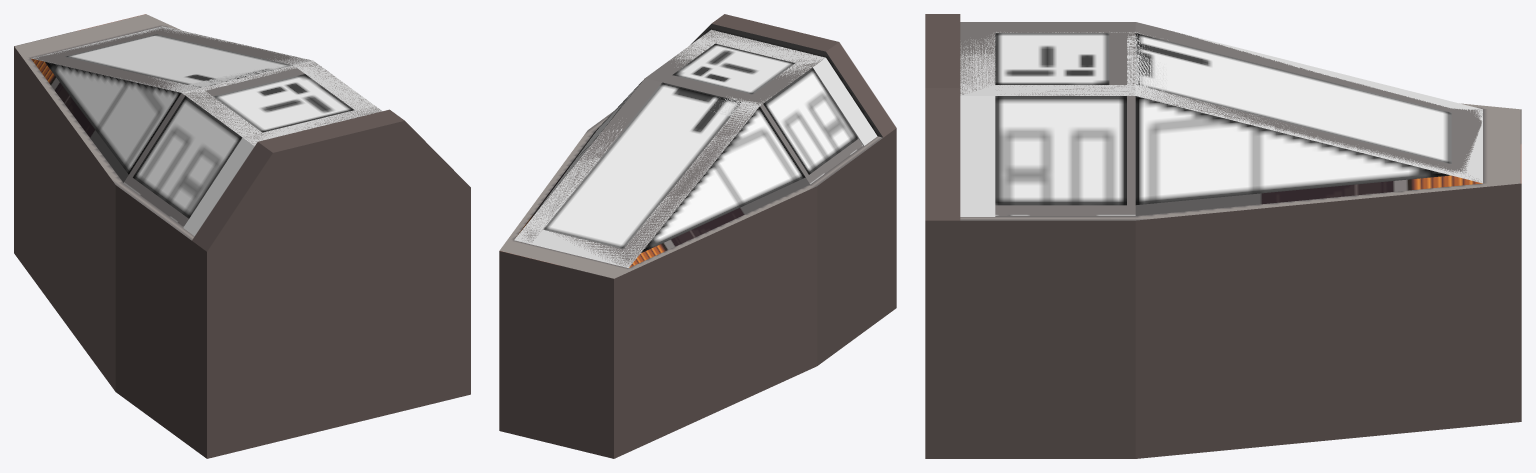
Rendered from cockpit.dae.
The picture shows the model from 3 angles, left to right: view 1: azimuth 30°, elevation 25°; view 2: azimuth 150°, elevation 25°; view 3: azimuth 270°, elevation 25°; orthographic projection. The views are drawn at different scales.
Visible parts, largest first — view 1: cockPit, windScreen.002, windScreen-noimp, windScreen.001-noimp; view 2: cockPit, windScreen.002, windScreen-noimp, windScreen.001-noimp; view 3: cockPit, windScreen.002, windScreen-noimp, windScreen.001-noimp.
Part boxes in pixels (box(x1,y1,x2,y2)): cockPit: box(14, 14, 470, 458); windScreen.002: box(31, 26, 381, 226); windScreen-noimp: box(31, 26, 381, 236); windScreen.001-noimp: box(153, 61, 372, 136); cockPit: box(499, 14, 896, 458); windScreen.002: box(516, 29, 862, 267); windScreen-noimp: box(514, 30, 877, 267); windScreen.001-noimp: box(545, 40, 808, 266); cockPit: box(925, 14, 1521, 458); windScreen.002: box(960, 22, 1482, 215); windScreen-noimp: box(960, 32, 1482, 216); windScreen.001-noimp: box(995, 32, 1482, 127).
Size of the model in its own units: 2 by 3.4 by 2.1.
